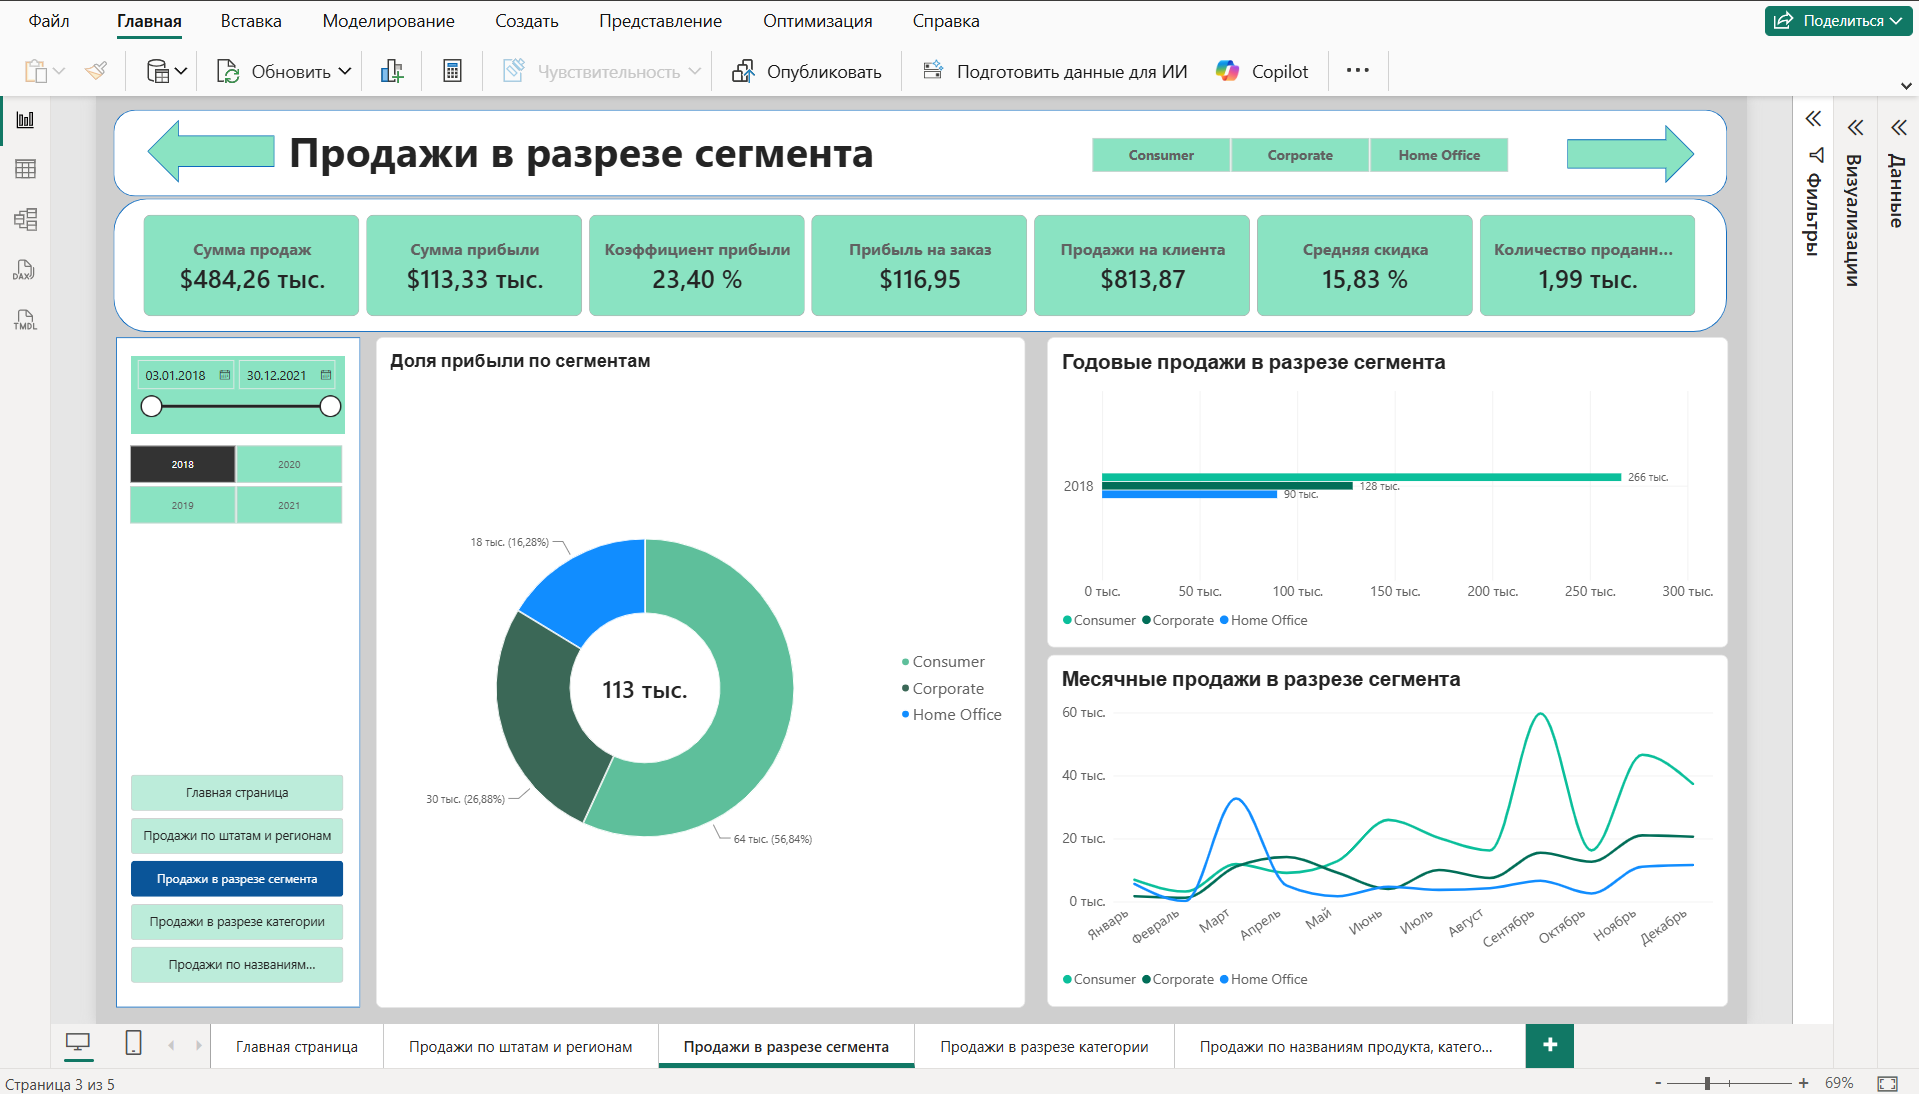

What the dashboard file says about the page in this screenshot:
{"tool":"powerbi","page":{"name":"Продажи в разрезе сегмента","canvas":[1920,1080],"ordinal":2},"visuals":[{"type":"clusteredBarChart","title":"Годовые продажи в разрезе сегмента","fields":{"Category":["Календарь.Год"],"Y":["Sum(Sample - Superstore_Orders.Sales)"],"Series":["Sample - Superstore_Orders.Segment"]},"box":[1105.8,280.8,791.9,361],"z":0},{"type":"lineChart","title":"Месячные продажи в разрезе сегмента","fields":{"Category":["Календарь.Date.Изменение.Иерархия дат.Месяц"],"Y":["Sum(Sample - Superstore_Orders.Sales)"],"Series":["Sample - Superstore_Orders.Segment"]},"box":[1105.8,650.6,791.9,409.9],"z":1000},{"type":"shape","box":[20.6,16.5,1877.2,100.9],"z":2000},{"type":"shape","box":[1711.1,33.1,148.3,68],"z":3000},{"type":"textbox","box":[224.4,30.9,734.8,86.4],"z":4000},{"type":"slicer","title":"Категория","fields":{"Values":["Sample - Superstore_Orders.Segment"]},"box":[1139,47.1,522.8,43.2],"z":5000},{"type":"shape","box":[59.3,27.9,148.3,73.3],"z":6000},{"type":"shape","box":[22.7,280.8,284.3,779.7],"z":7000},{"type":"pageNavigator","box":[40.1,790.1,247.7,245.9],"z":8000},{"type":"slicer","fields":{"Values":["Календарь.Год"]},"box":[19.2,404.7,286.1,94.7],"z":9000},{"type":"shape","box":[20.6,119.4,1876.7,155.2],"z":10000},{"type":"cardVisual","fields":{"Data":["Меры.Сумма продаж","Меры.Сумма прибыли","Меры.Коефкоэффициент прибыли","Меры.прибыль на заказ","Меры.продажи на клиента","Меры.средняя скидка","CountNonNull(Sample - Superstore_Orders.Quantity)"]},"box":[55.6,137.9,1805.2,118.6],"z":11000},{"type":"slicer","fields":{"Values":["Календарь.Date"]},"box":[40.1,301.7,247.7,90.7],"z":12000},{"type":"donutChart","title":"Доля прибыли по сегментам","fields":{"Category":["Sample - Superstore_Orders.Segment"],"Y":["Sum(Sample - Superstore_Orders.Profit)"]},"box":[326.2,280.8,755.2,779.7],"z":13000}]}

Visuals, with their boxes on the page's 1920x1080 design canvas (x1, y1, x2, y2). These are canvas units, not pixel positions in the 1919x1094 screenshot, which may show the page scaled, cropped or inside an application window:
"Годовые продажи в разрезе сегмента" clusteredBarChart: bbox=(1106, 281, 1898, 642)
"Месячные продажи в разрезе сегмента" lineChart: bbox=(1106, 651, 1898, 1060)
shape: bbox=(21, 16, 1898, 117)
shape: bbox=(1711, 33, 1859, 101)
textbox: bbox=(224, 31, 959, 117)
"Категория" slicer: bbox=(1139, 47, 1662, 90)
shape: bbox=(59, 28, 208, 101)
shape: bbox=(23, 281, 307, 1060)
pageNavigator: bbox=(40, 790, 288, 1036)
slicer - Календарь.Год: bbox=(19, 405, 305, 499)
shape: bbox=(21, 119, 1897, 275)
cardVisual - Меры.Сумма продаж x Меры.Сумма прибыли: bbox=(56, 138, 1861, 256)
slicer - Календарь.Date: bbox=(40, 302, 288, 392)
"Доля прибыли по сегментам" donutChart: bbox=(326, 281, 1081, 1060)
